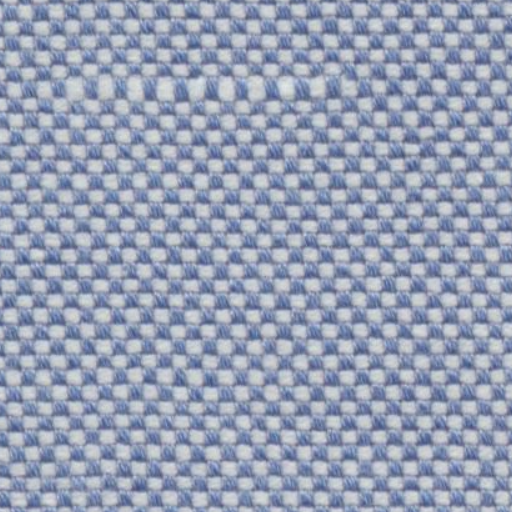DaiSha: (38, 58, 368, 112)
